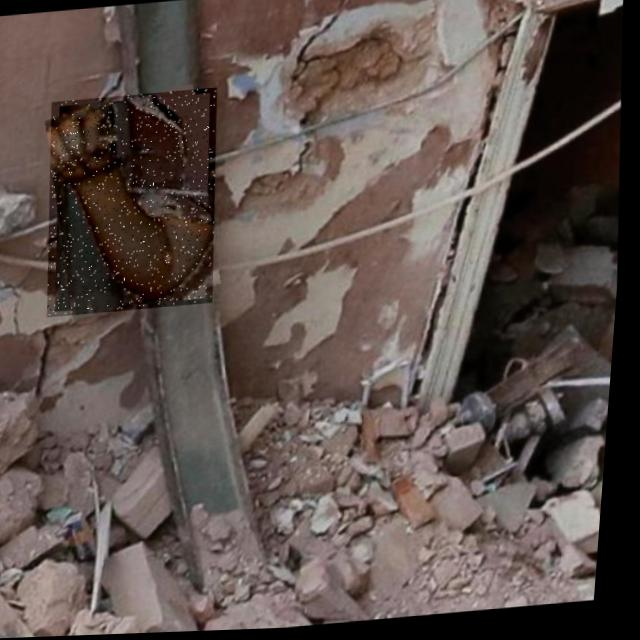Person in Rubble: (41, 89, 230, 318)
